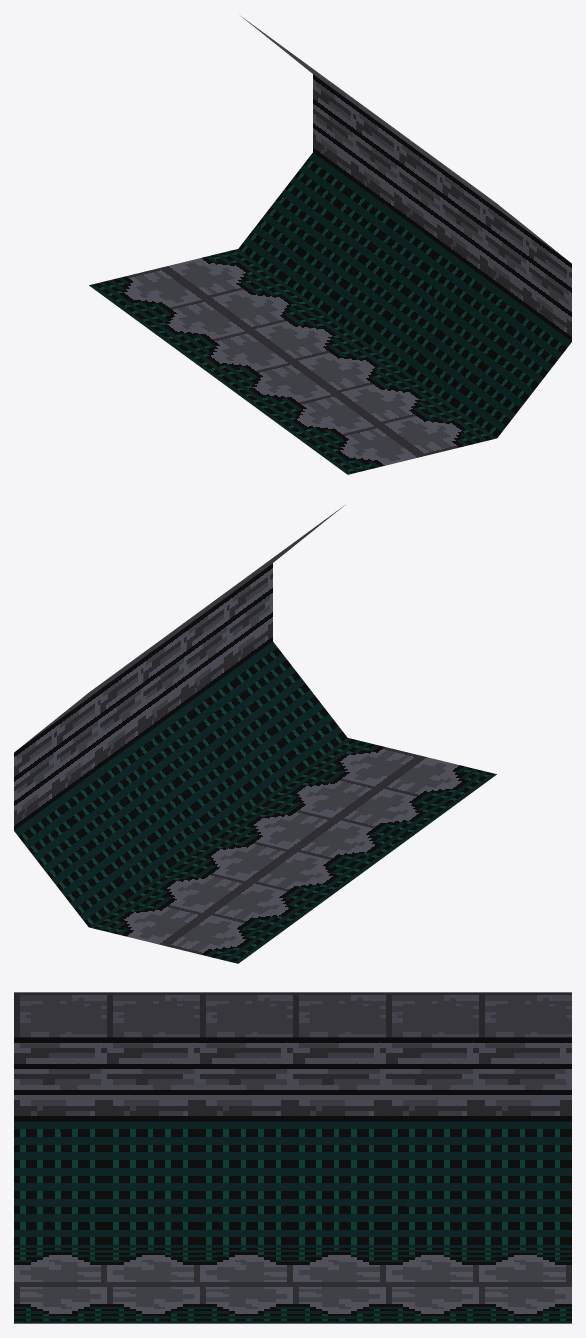
Rendered from hallway.gltf.
3 views of the same model, one above another, from view 1: azimuth 30°, elevation 25°; view 2: azimuth 150°, elevation 25°; view 3: azimuth 270°, elevation 25° (orthographic). The views are drawn at different scales.
Size of the model in its own units: 4 by 3 by 6.
Materials: 1 (1 with a texture image).
